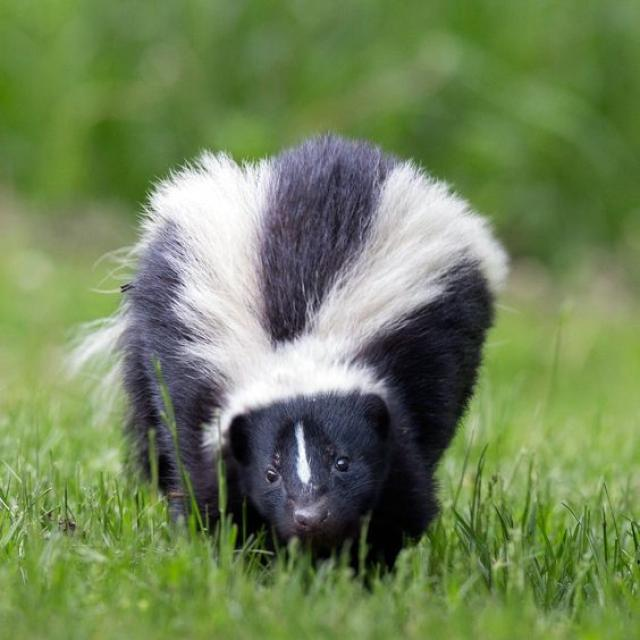Skunk: (58, 117, 515, 608)
